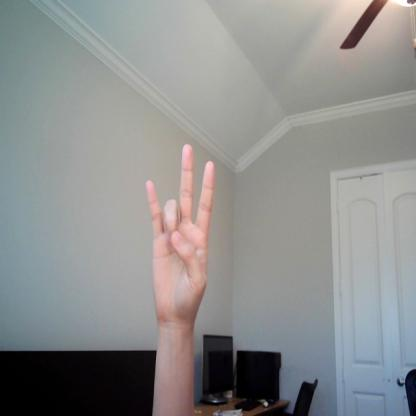seven: (144, 142, 215, 314)
